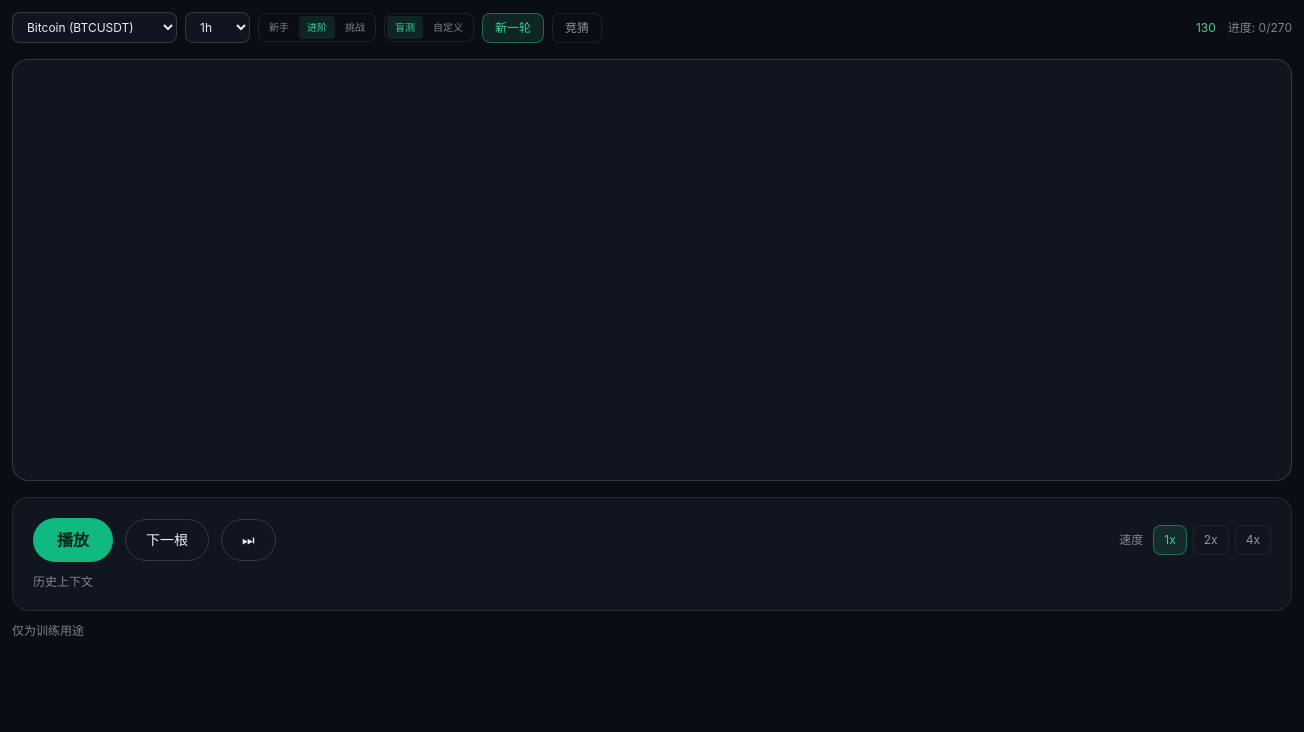
Scenario: ReplayTrainer 难度切换（回归：难度变更必须重置上下文） › 切换难度会重新载入历史窗口并把起点对齐到新的上下文根数
The image size is (1304, 732).
Check: the text "130 进度: 0/270" is shown, box [1196,20,1292,36]
Click the button "挑战": (355, 28) [337,16,373,39]
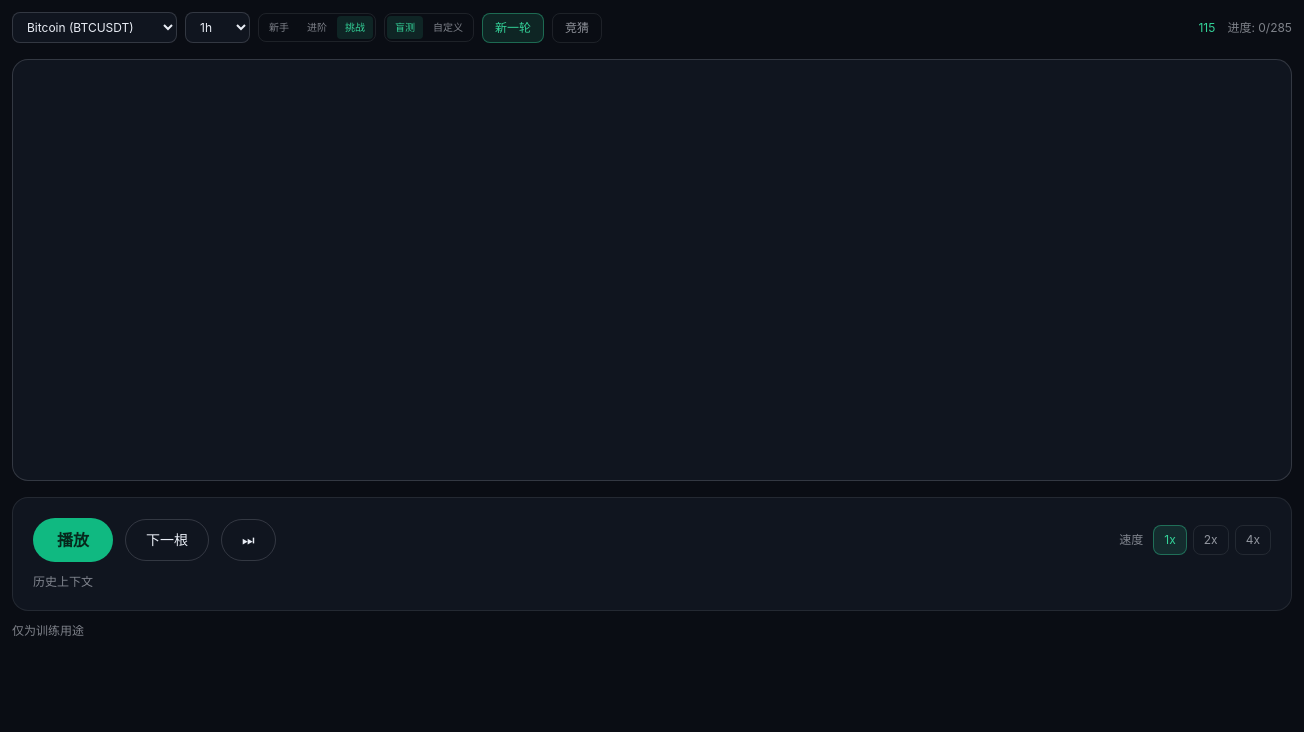
Check: the text "115 进度: 0/285" is shown, box [1198,20,1292,36]
